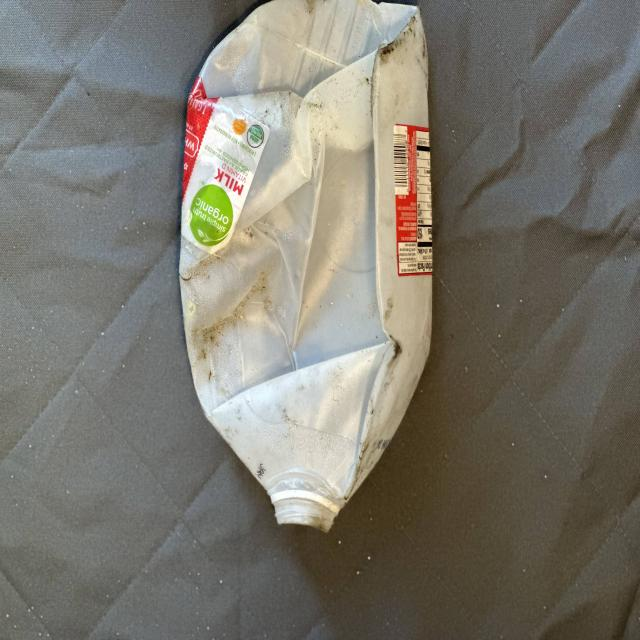milk-jug: (177, 0, 437, 527)
